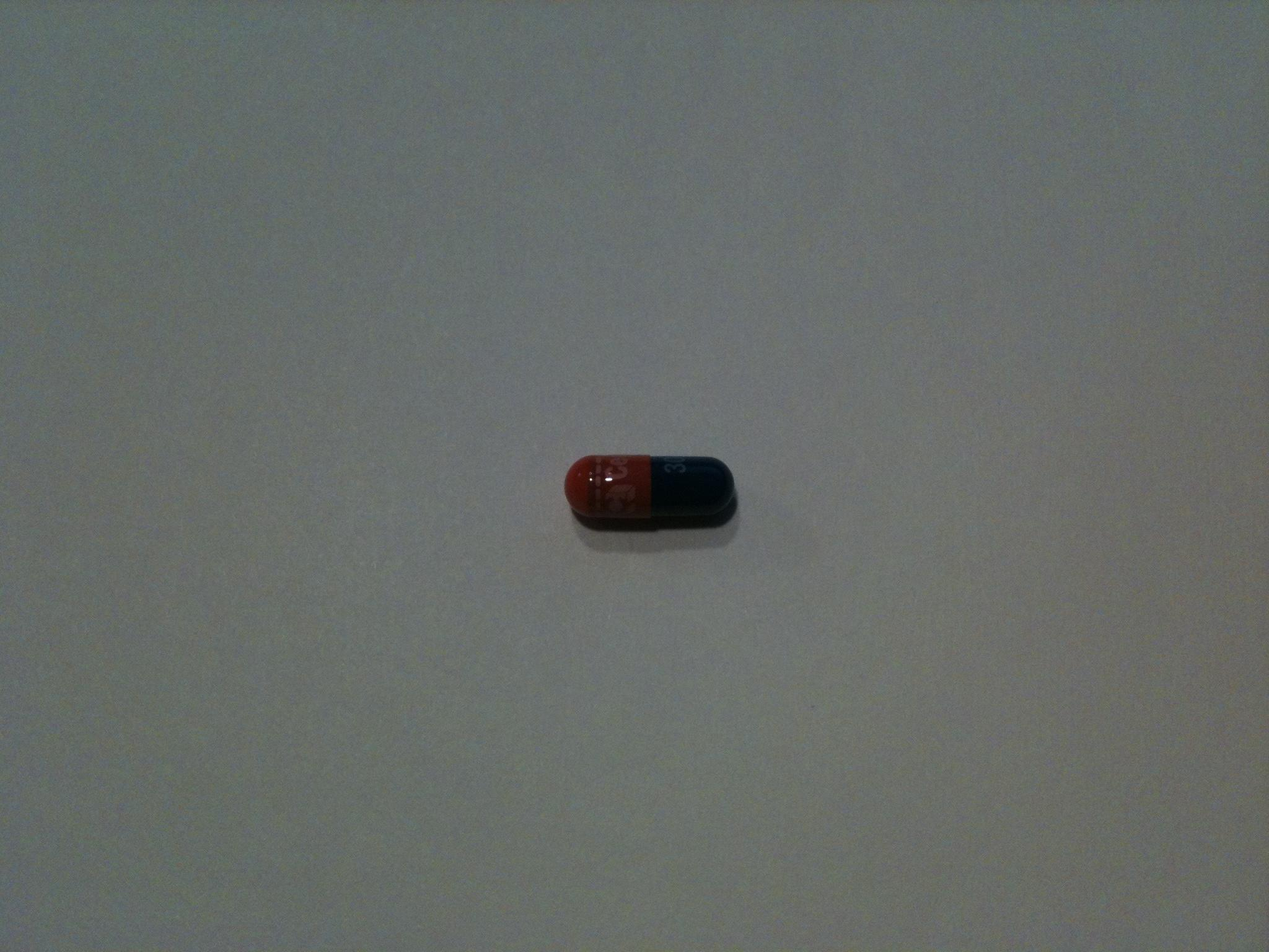Pill: (535, 432, 755, 550)
